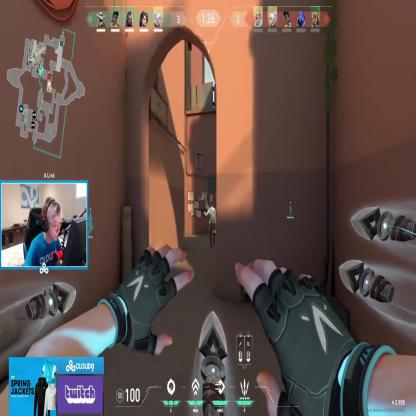enemy: (205, 199, 216, 246)
enemy_head: (209, 201, 213, 208)
